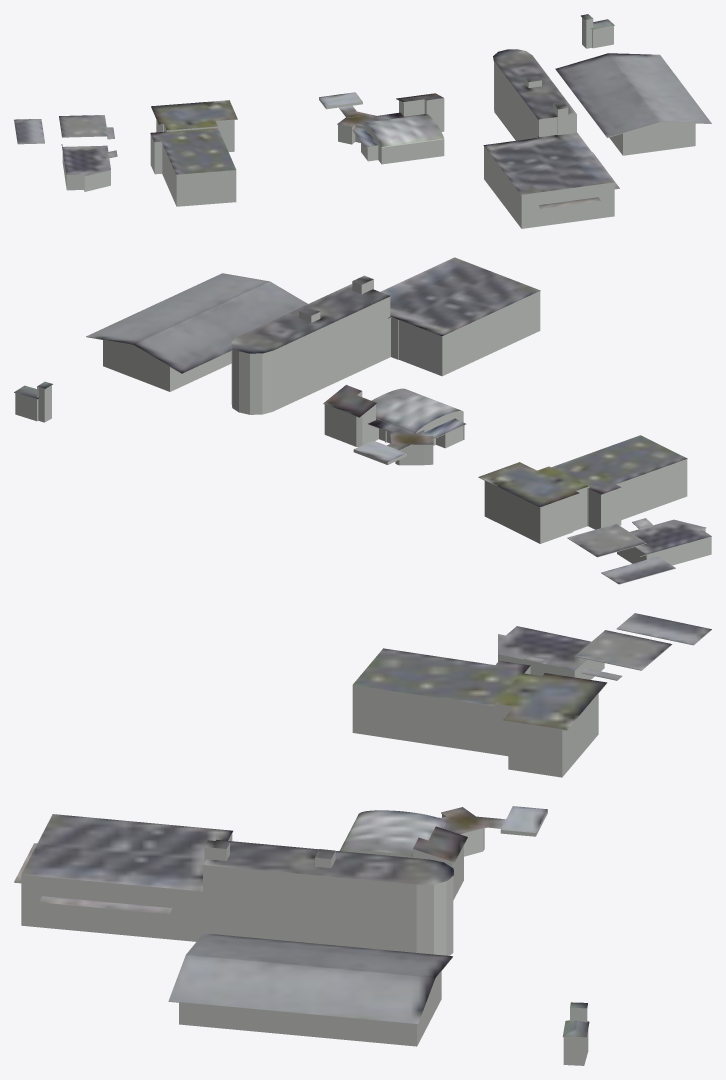
Rendered from LSZR_-2_-1.glb.
3 views of the same model, one above another, from view 1: azimuth 30°, elevation 25°; view 2: azimuth 150°, elevation 25°; view 3: azimuth 270°, elevation 25° (orthographic). The views are drawn at different scales.
Visible parts, largest first — view 1: building_bf431d646388319d, building_c127dc3020412071, building_35bcb1e447b6b9ae, building_df2df69a9067f00a, building_f2ad88d0c6517376; view 2: building_c127dc3020412071, building_bf431d646388319d, building_35bcb1e447b6b9ae, building_df2df69a9067f00a, building_f2ad88d0c6517376; view 3: building_c127dc3020412071, building_bf431d646388319d, building_35bcb1e447b6b9ae, building_df2df69a9067f00a, building_f2ad88d0c6517376.
Boxes of the visible parts, x1,y1,x2,y2 form: building_bf431d646388319d: (62,49,619,209); building_c127dc3020412071: (62,62,614,228); building_35bcb1e447b6b9ae: (555,14,711,137); building_df2df69a9067f00a: (582,17,695,155); building_f2ad88d0c6517376: (14,115,114,146); building_c127dc3020412071: (231,280,711,565); building_bf431d646388319d: (231,257,711,554); building_35bcb1e447b6b9ae: (14,273,307,399); building_df2df69a9067f00a: (15,340,231,422); building_f2ad88d0c6517376: (567,524,675,584); building_c127dc3020412071: (21,655,604,955); building_bf431d646388319d: (14,626,607,914); building_35bcb1e447b6b9ae: (168,933,589,1037); building_df2df69a9067f00a: (179,971,588,1065); building_f2ad88d0c6517376: (574,613,711,680).
Size of the model in its own units: 244 by 26.37 by 172.
2 materials, 1 textured.
